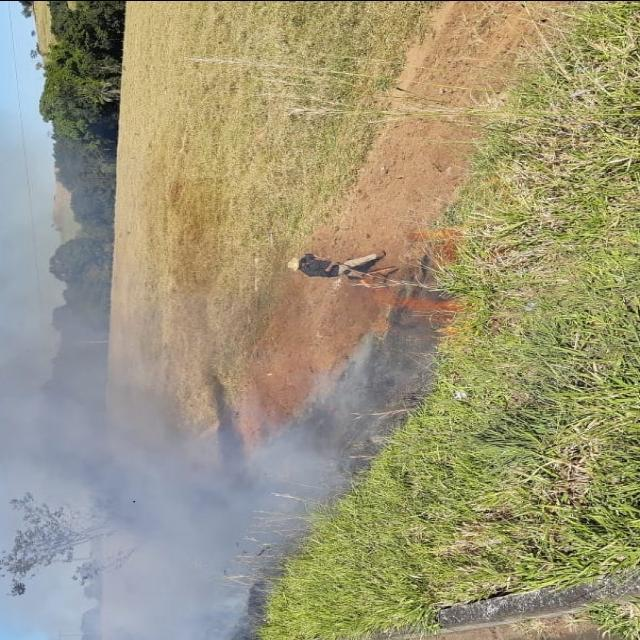Fire: (358, 283, 471, 315)
